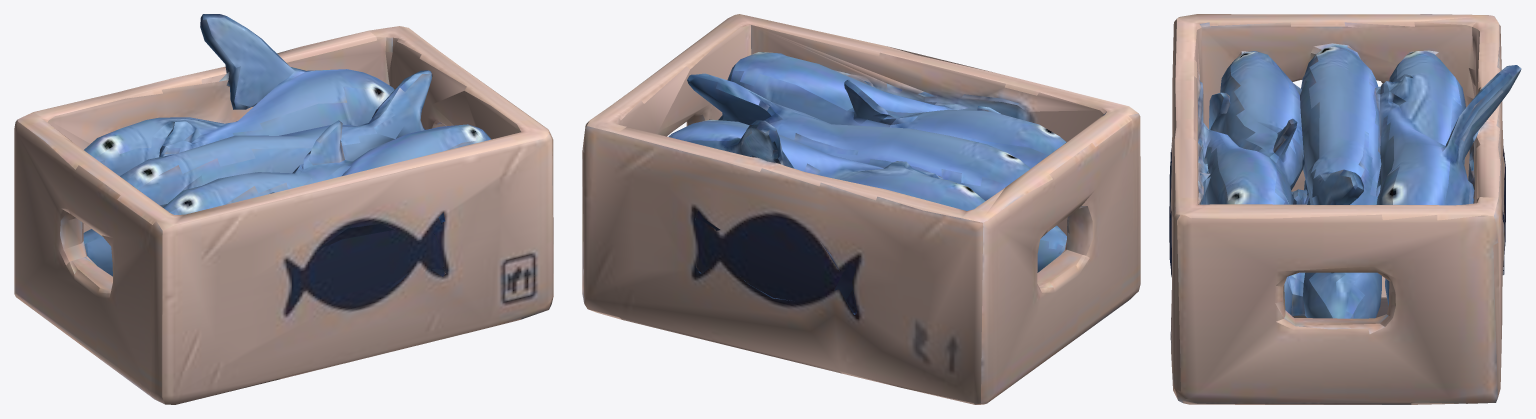
File: arene_caisse_poisson.glb
3 views of the same model, side by side, from view 1: azimuth 30°, elevation 25°; view 2: azimuth 150°, elevation 25°; view 3: azimuth 270°, elevation 25° (orthographic). The views are drawn at different scales.
Parts seen in each view (by area): view 1: Mesh0; view 2: Mesh0; view 3: Mesh0.
Boxes of the visible parts, x1,y1,x2,y2 form: Mesh0: (14, 14, 553, 404); Mesh0: (582, 14, 1140, 404); Mesh0: (1169, 14, 1521, 404).
Bounding box in the file's own units: 1.9 × 1.05 × 1.37.
Materials: 1 (1 with a texture image).
